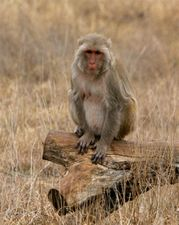monkey: (56, 25, 147, 165)
